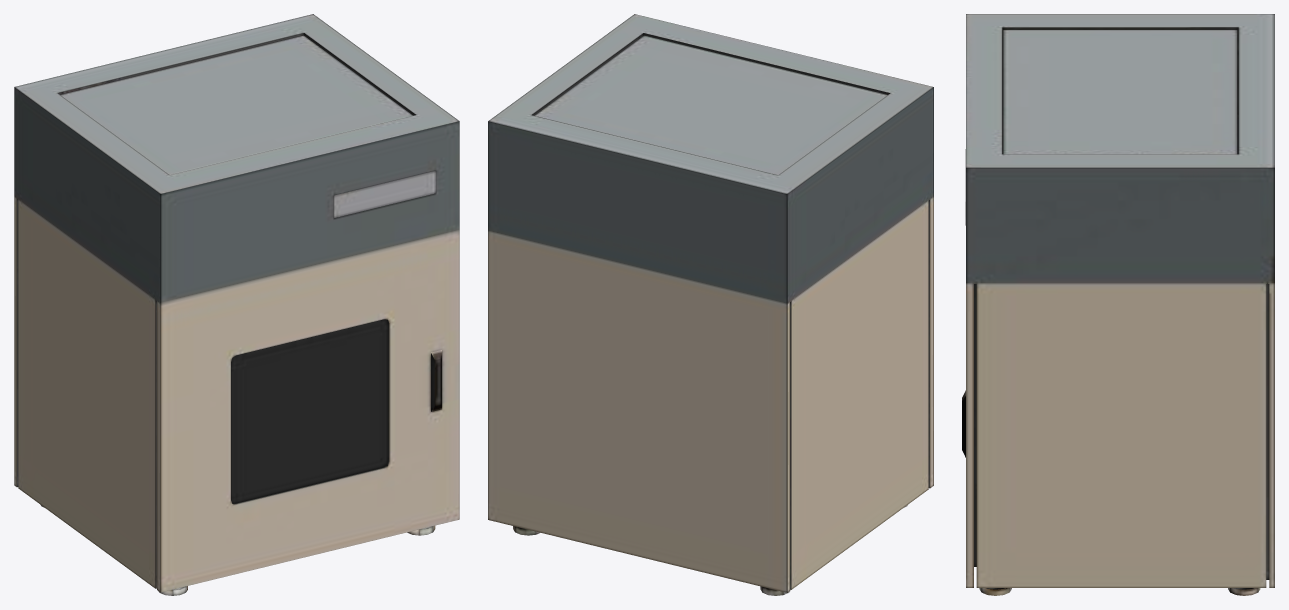
3 renders of one model, left to right at view 1: azimuth 30°, elevation 25°; view 2: azimuth 150°, elevation 25°; view 3: azimuth 270°, elevation 25°, orthographic. The views are drawn at different scales.
Visible parts, largest first — view 1: guhuaxiamg_0; view 2: guhuaxiamg_0; view 3: guhuaxiamg_0.
Boxes of the visible parts, x1,y1,x2,y2 form: guhuaxiamg_0: (14,14,459,595); guhuaxiamg_0: (488,14,933,595); guhuaxiamg_0: (962,14,1274,595).
Bounding box in the file's own units: 0.79 × 1.04 × 0.6784.
1 material, 1 textured.
